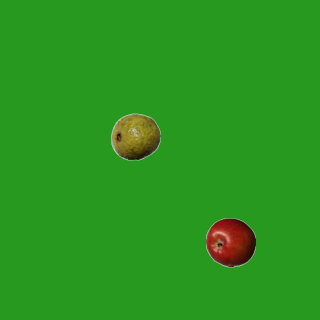Apple Braeburn: (205, 217, 255, 267)
Guava: (110, 111, 160, 161)
